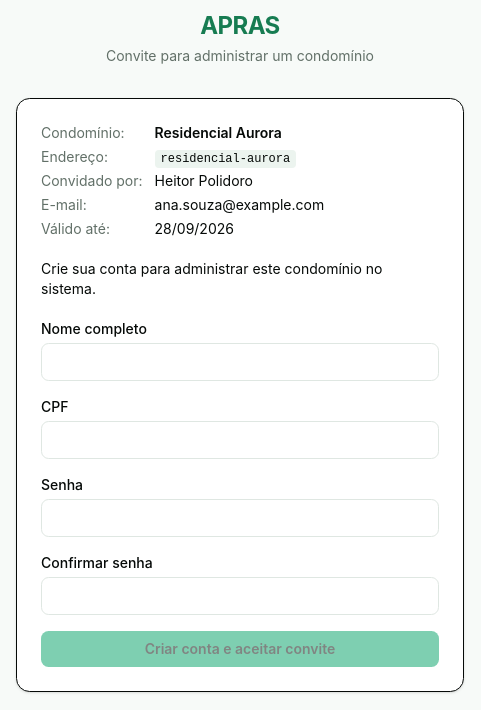
it: AcceptInvitationPage — the two meanings of 409 on accept › switches to the expired state when accept answers 410
Check: the element with test id "invitation-preview" is shown, box top-left (41, 124), bottom-right (324, 237)
Type "Ana Souza" into the field labelled "Nome completo" at (240, 362), box top-left (41, 343), bottom-right (439, 381)
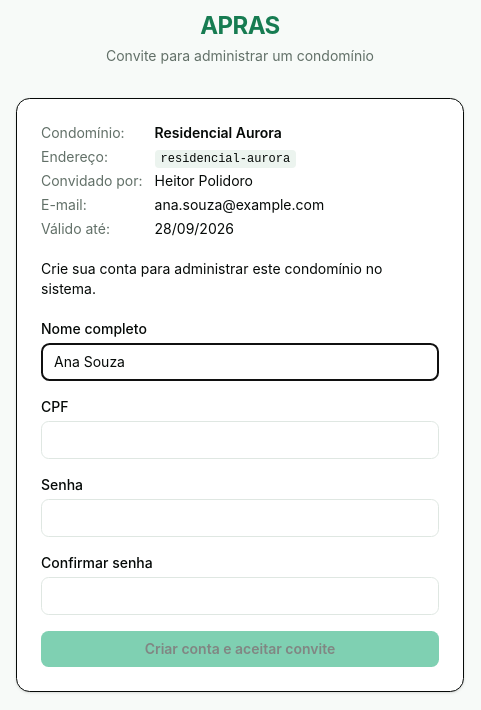
Type "529.982.247-25" into the field labelled "CPF" at (240, 440), box top-left (41, 421), bottom-right (439, 459)
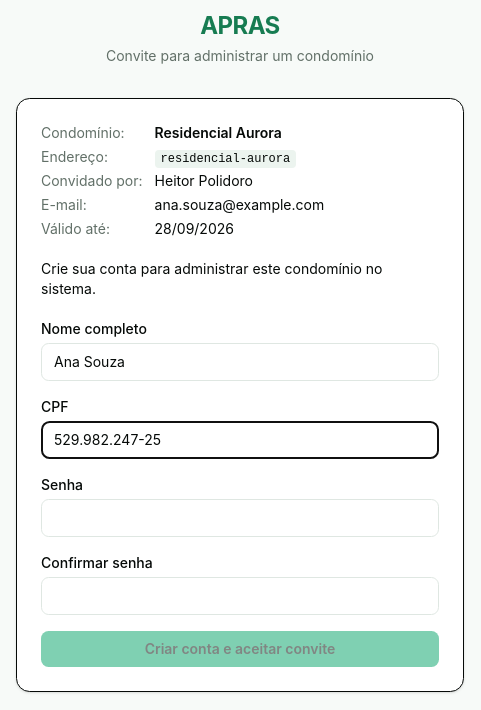
Type "Senha!123" into the password field labelled "Senha" at (240, 518), box top-left (41, 499), bottom-right (439, 537)
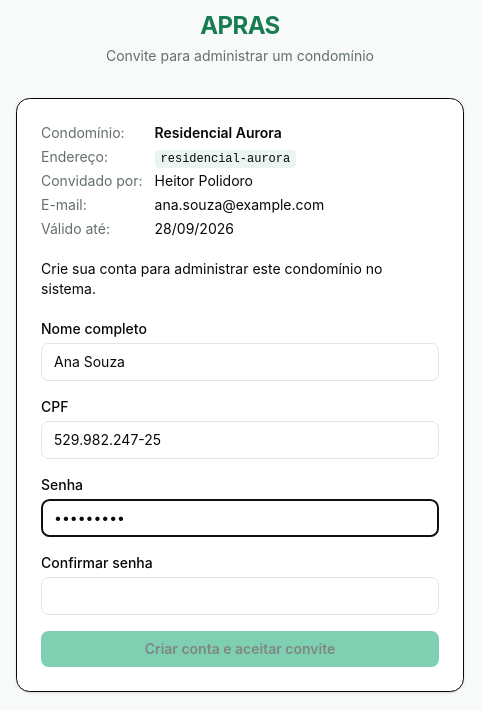
Type "Senha!123" into the password field labelled "Confirmar senha" at (240, 596), box top-left (41, 577), bottom-right (439, 615)
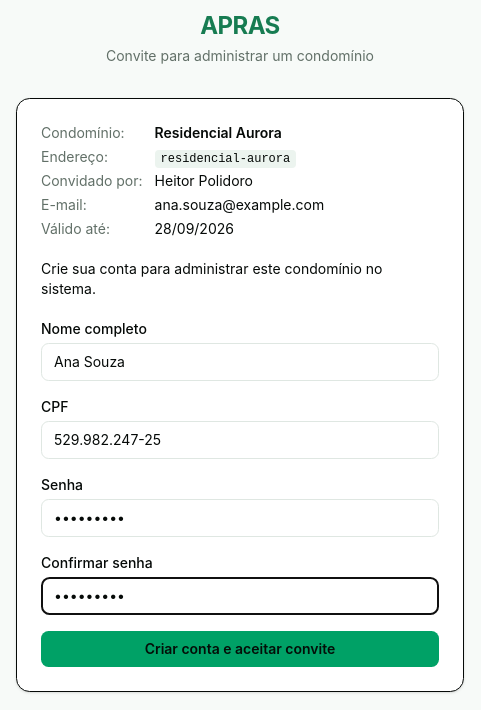
Click the button "Criar conta e aceitar convite" at (240, 649), box top-left (41, 631), bottom-right (439, 667)
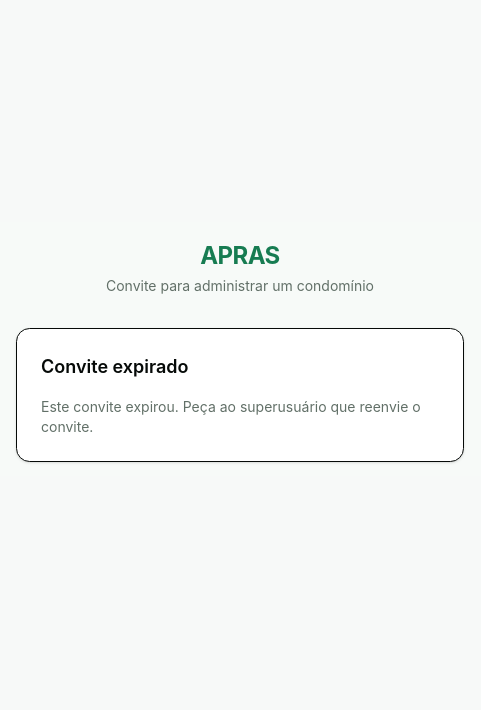
Check: the message with test id "invitation-expired" shows "Este convite expirou. Peça ao superusuário que reenvie o convite.", box top-left (41, 398), bottom-right (421, 435)
